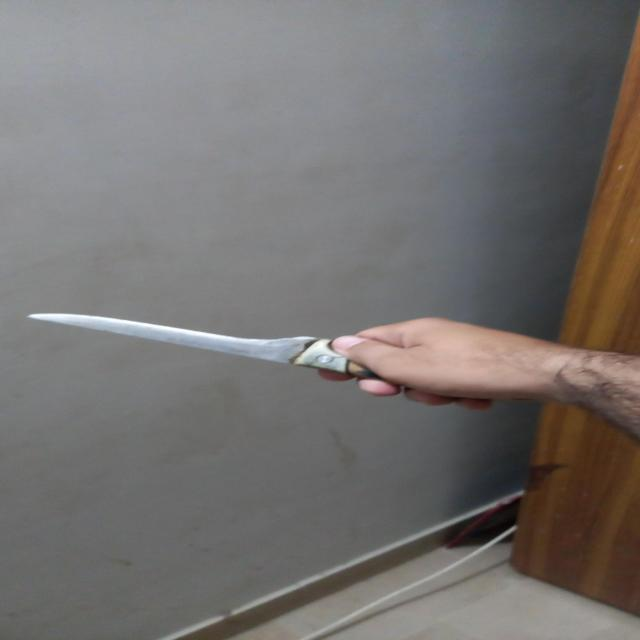faca: (32, 314, 384, 378)
